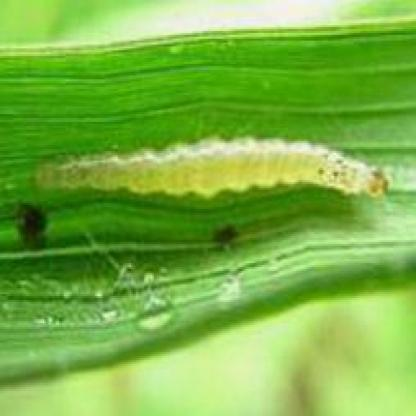leaf-folder: (33, 115, 397, 227)
